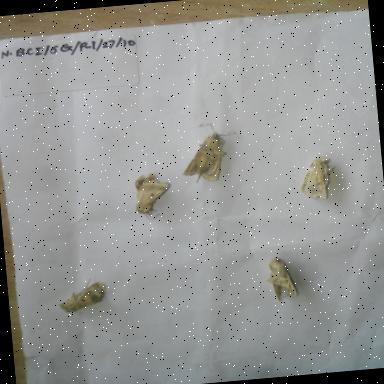abw: (174, 118, 245, 187), (286, 136, 348, 208), (124, 167, 178, 225), (52, 274, 121, 318), (259, 250, 306, 308)
